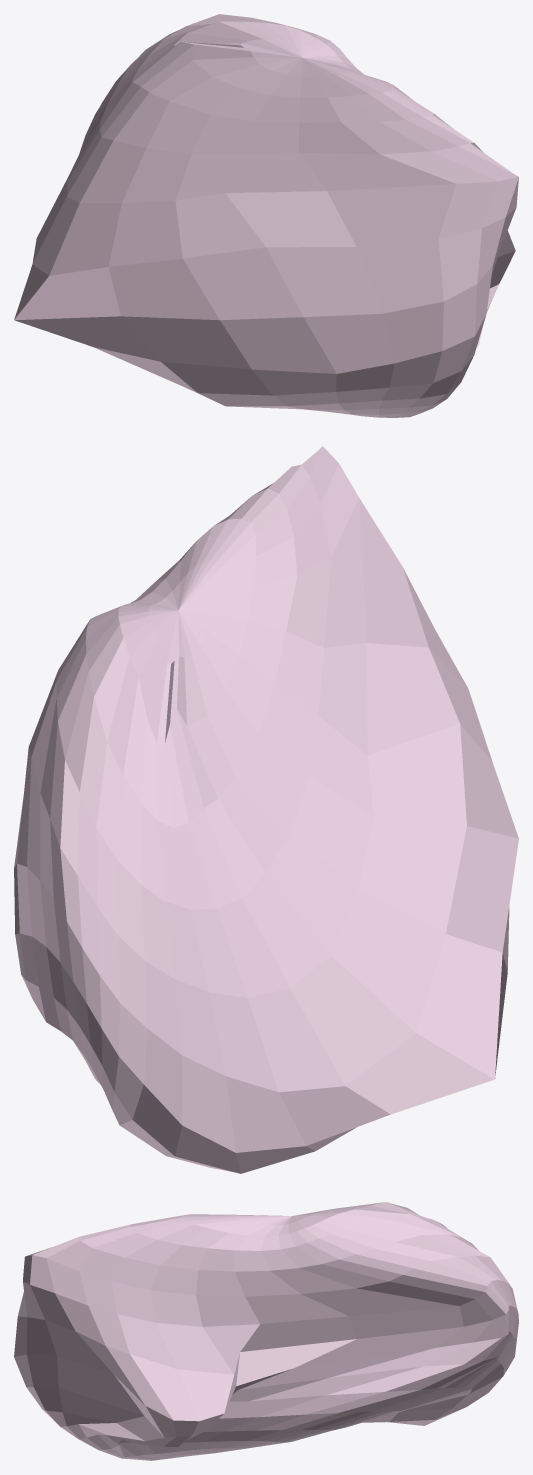
The model's file is Asteroid type 1.fbx.
The picture shows the model from 3 angles, top to bottom: view 1: azimuth 30°, elevation 25°; view 2: azimuth 150°, elevation 25°; view 3: azimuth 270°, elevation 25°; orthographic projection. The views are drawn at different scales.
Parts seen in each view (by area): view 1: Sphere; view 2: Sphere; view 3: Sphere.
Boxes of the visible parts, x1,y1,x2,y2 form: Sphere: (14,14,518,417); Sphere: (14,446,518,1173); Sphere: (14,1202,518,1460).
Bounding box in the file's own units: 3.93 × 2.91 × 5.14.
